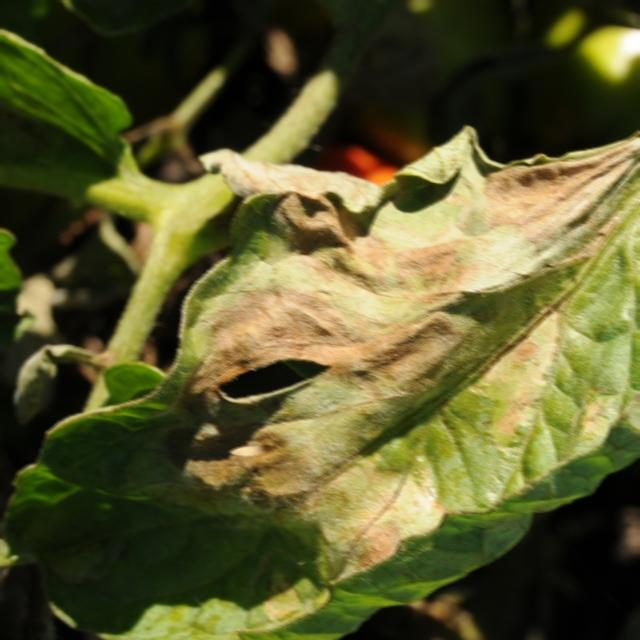Tomato leaf late blight: (24, 113, 640, 640)
